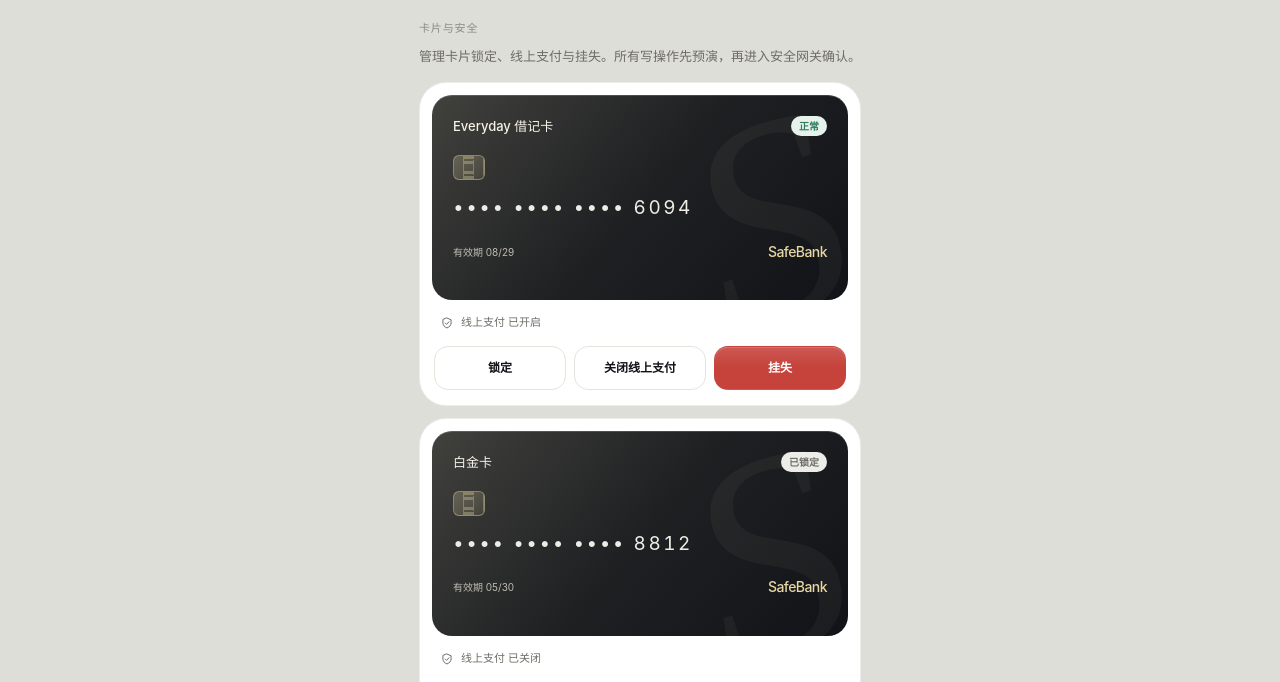
CardsPage › red reportLost does not show investment advice text
This screenshot has width=1280, height=682.
Expected: the text "Everyday 借记卡" is shown, 453,116 -> 553,137
Click the button "挂失" below "08/29" at [780, 368], box 714,346 -> 846,390
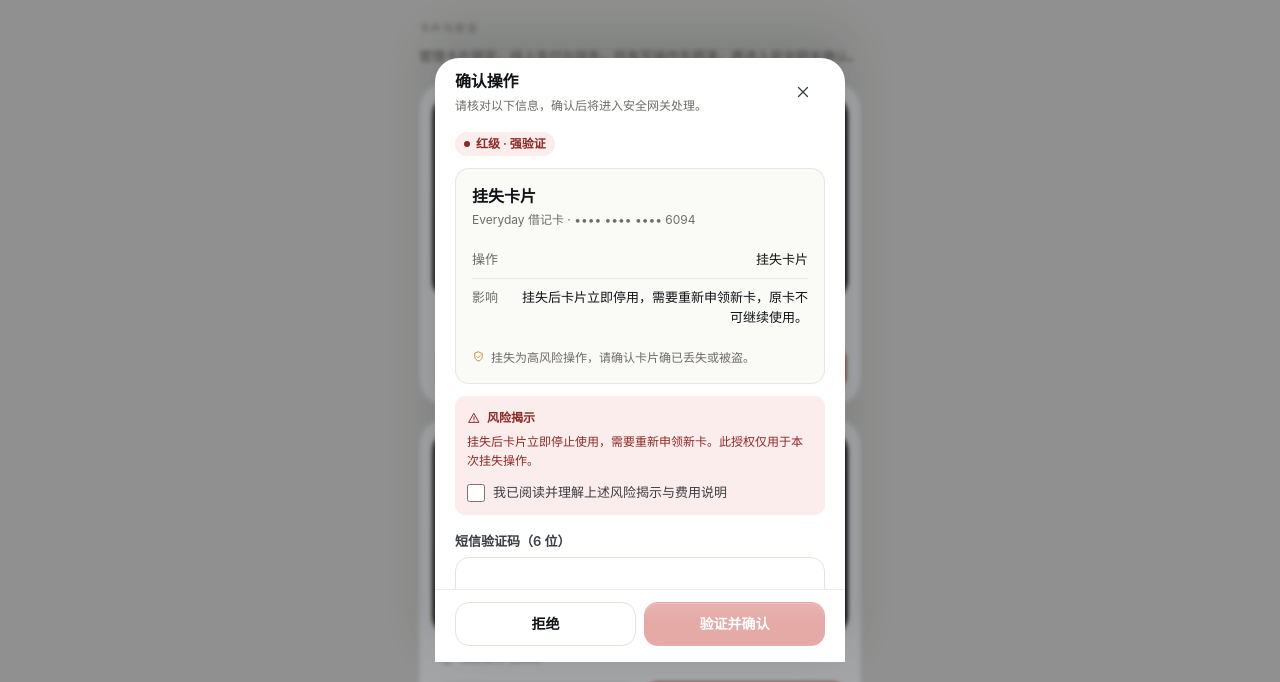
Expected: the dialog is shown, 435,58 -> 845,662
